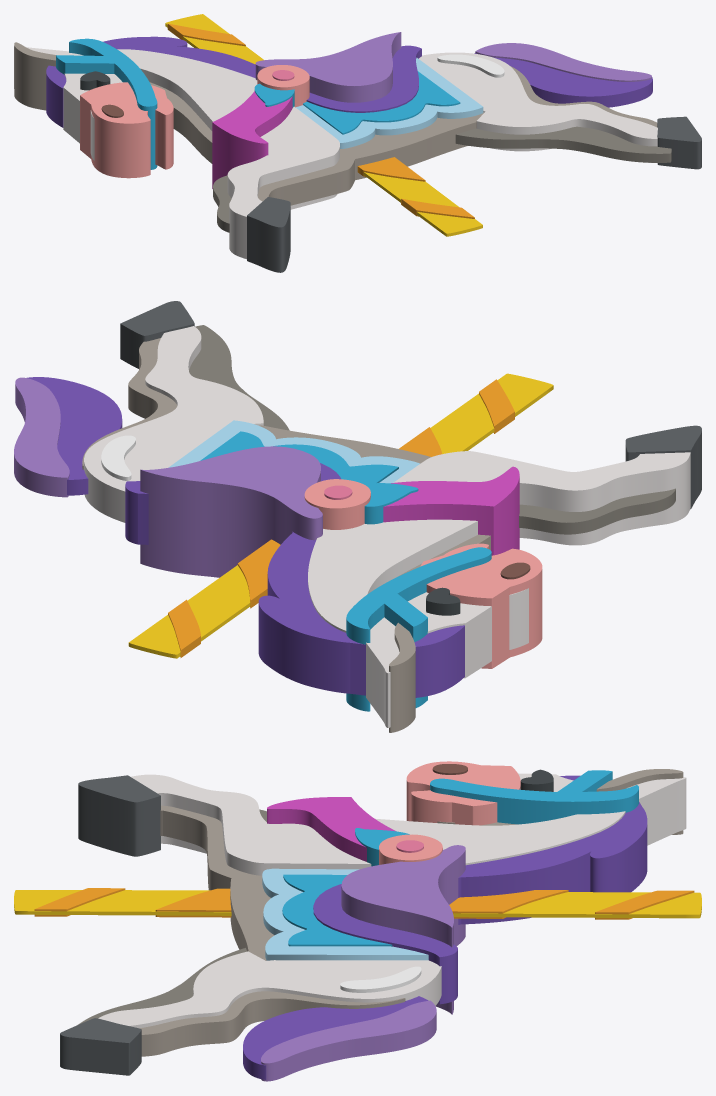
The model's file is emoji_u1f3a0.glb.
The picture shows the model from 3 angles, top to bottom: view 1: azimuth 30°, elevation 25°; view 2: azimuth 150°, elevation 25°; view 3: azimuth 270°, elevation 25°; orthographic projection. The views are drawn at different scales.
Parts seen in each view (by area): view 1: emoji_u1f3a0; view 2: emoji_u1f3a0; view 3: emoji_u1f3a0.
Part boxes in pixels (box(x1,y1,x2,y2)): emoji_u1f3a0: box(14, 14, 701, 272); emoji_u1f3a0: box(14, 301, 701, 732); emoji_u1f3a0: box(14, 761, 701, 1081).
Bounding box in the file's own units: 0.033 × 0.0052 × 0.0344.
